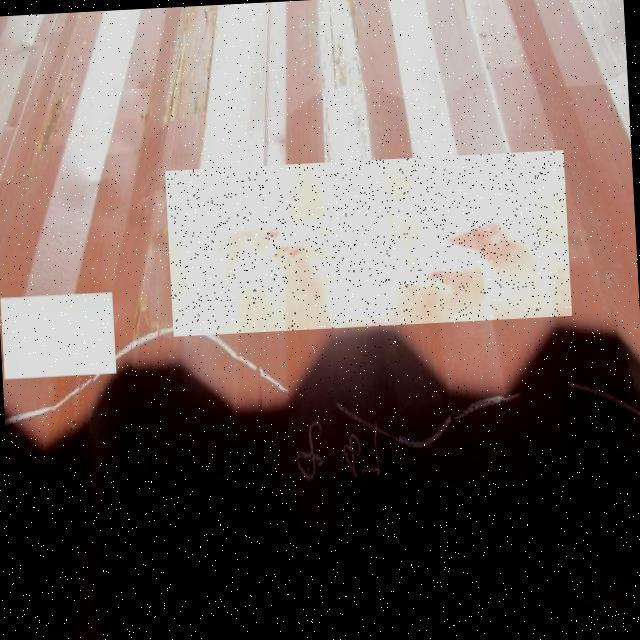Dent: (165, 150, 572, 337)
